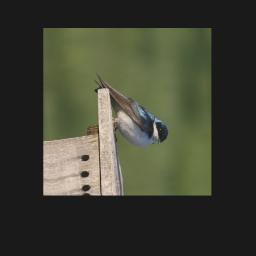Swallow: (89, 65, 170, 153)
